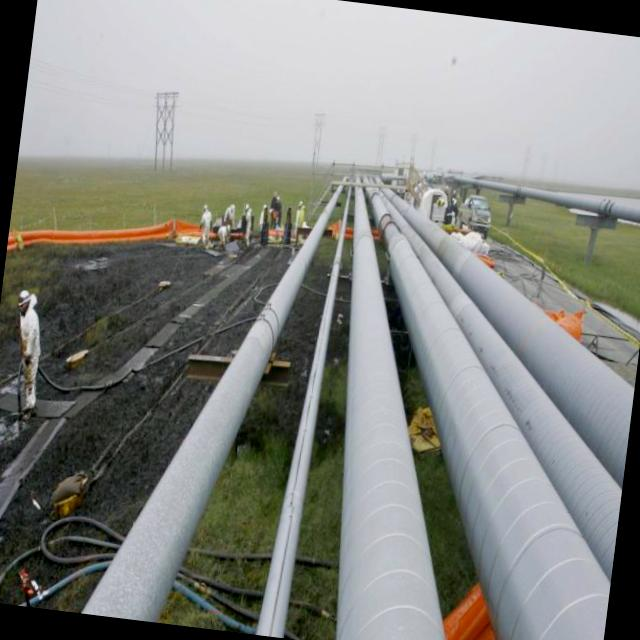gas: (81, 198, 334, 622), (371, 193, 610, 640), (390, 207, 622, 581), (386, 191, 634, 487), (337, 187, 444, 640)
